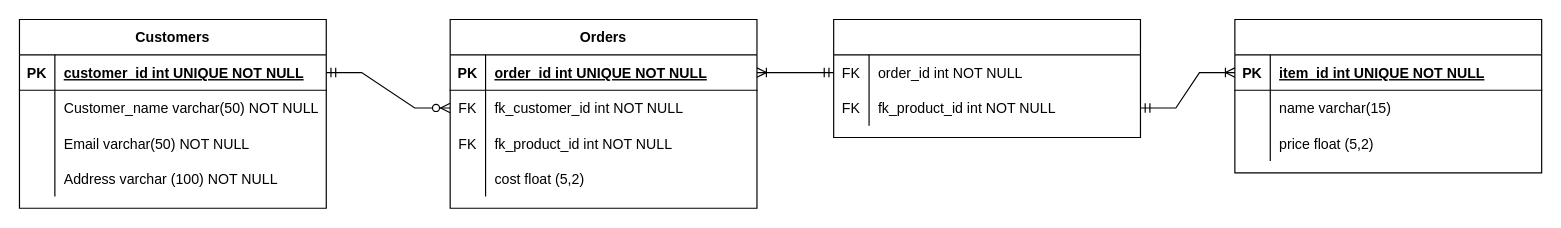
The diagram is 1561 pixels wide and 228 high, and some of its shapes have lost their labels. The box of each missing label's shape, as (x1, y1, x2, y2) in pixels:
Items: (1234, 18, 1542, 173)
Joining table: (832, 18, 1140, 137)
